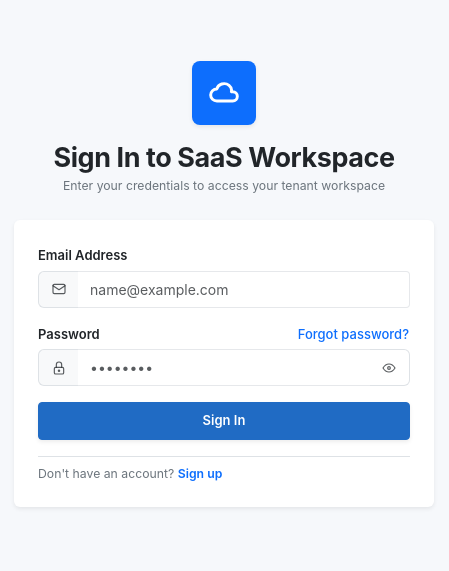
Test: Amazon Cognito Authentication & UI (Phase 4) › LoginPage Component › displays error banner when authentication fails
Type "wrong@example.com" into the field with placeholder "name@example.com" at (244, 289), box [78,271,410,308]
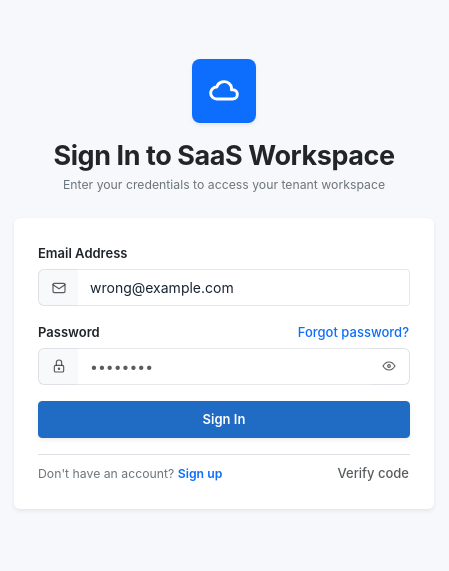
Type "WrongPassword" into the password field with placeholder "••••••••" at (224, 366), box [78,348,370,385]
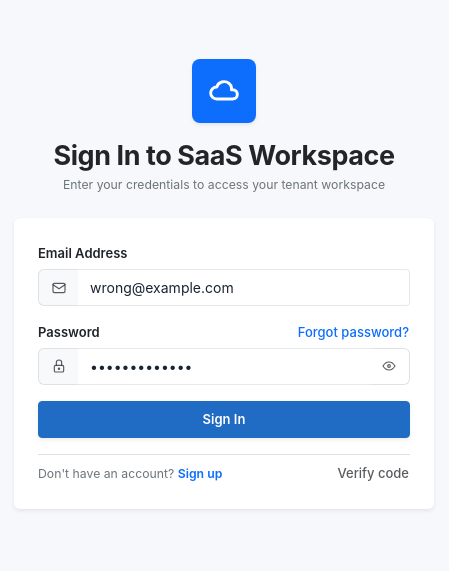
Click the button "Sign In" at (224, 419), box [38,401,410,438]
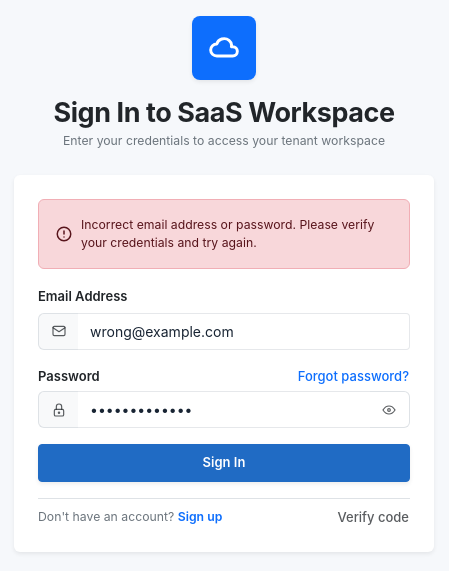
expect the text "Incorrect email address or password" is shown: met, box [81,217,374,250]
